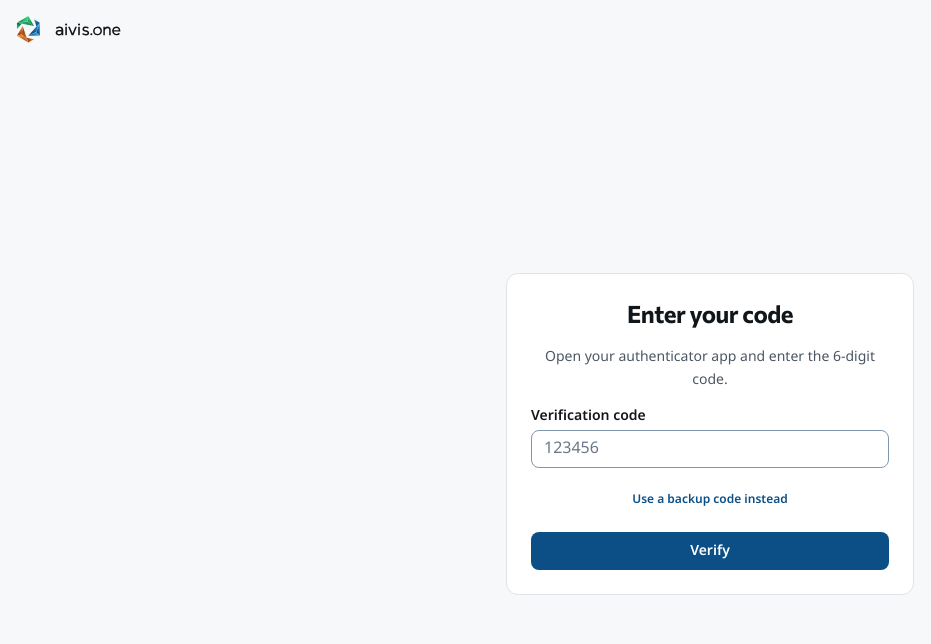
it: TelegramSecondCodeView › keeps the screen and shows the rate-limit text on a 429
The image size is (931, 644).
Type "000000" into the field labelled "Verification code" at [710, 449], box [531,430,889,468]
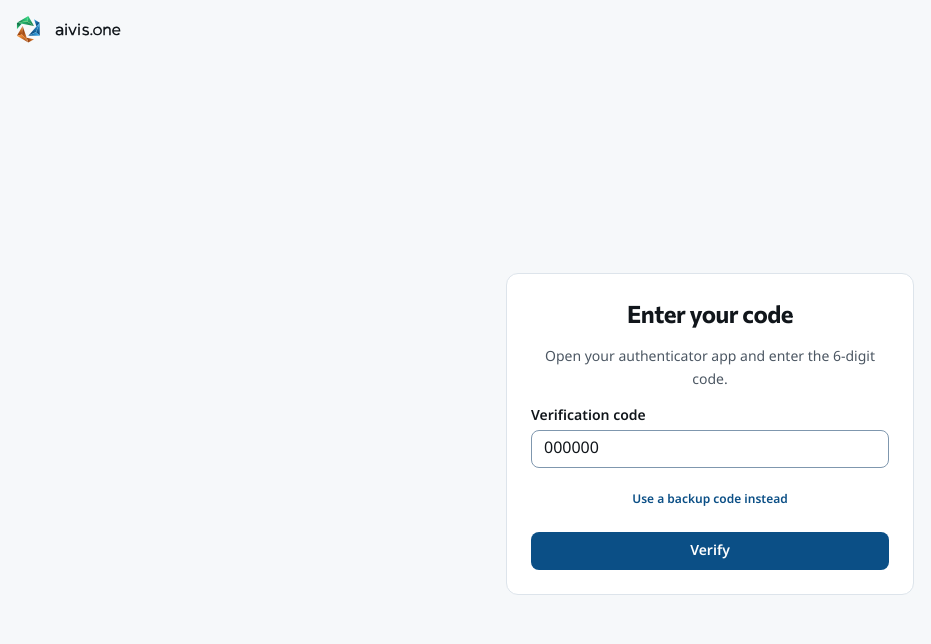
Click the button with class "ds-button--primary" at [710, 551], box [531,532,889,570]
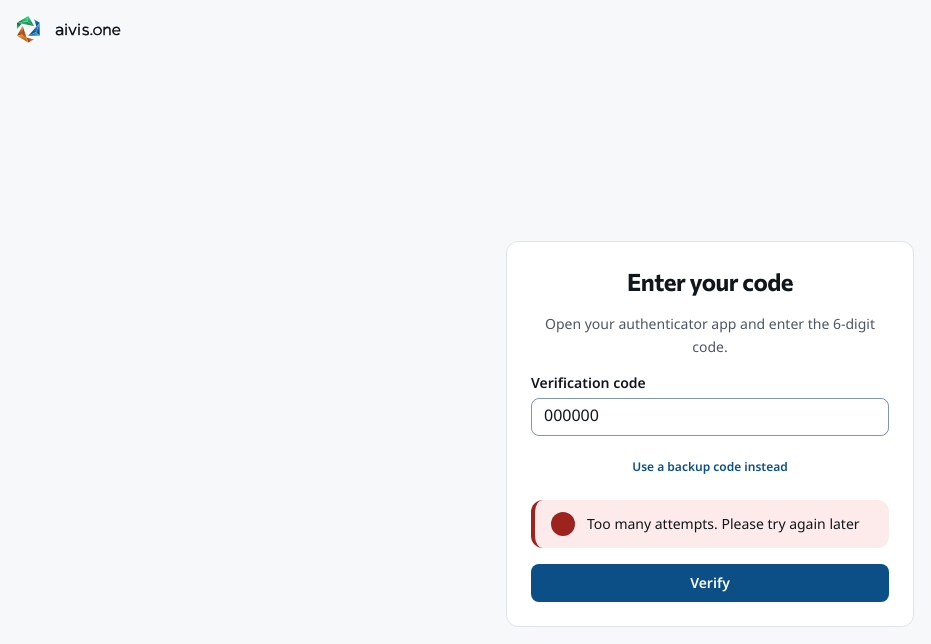
Now the message with class "ds-alert--danger" reads "Too many attempts. Please try again later", box [587,510,860,539]
